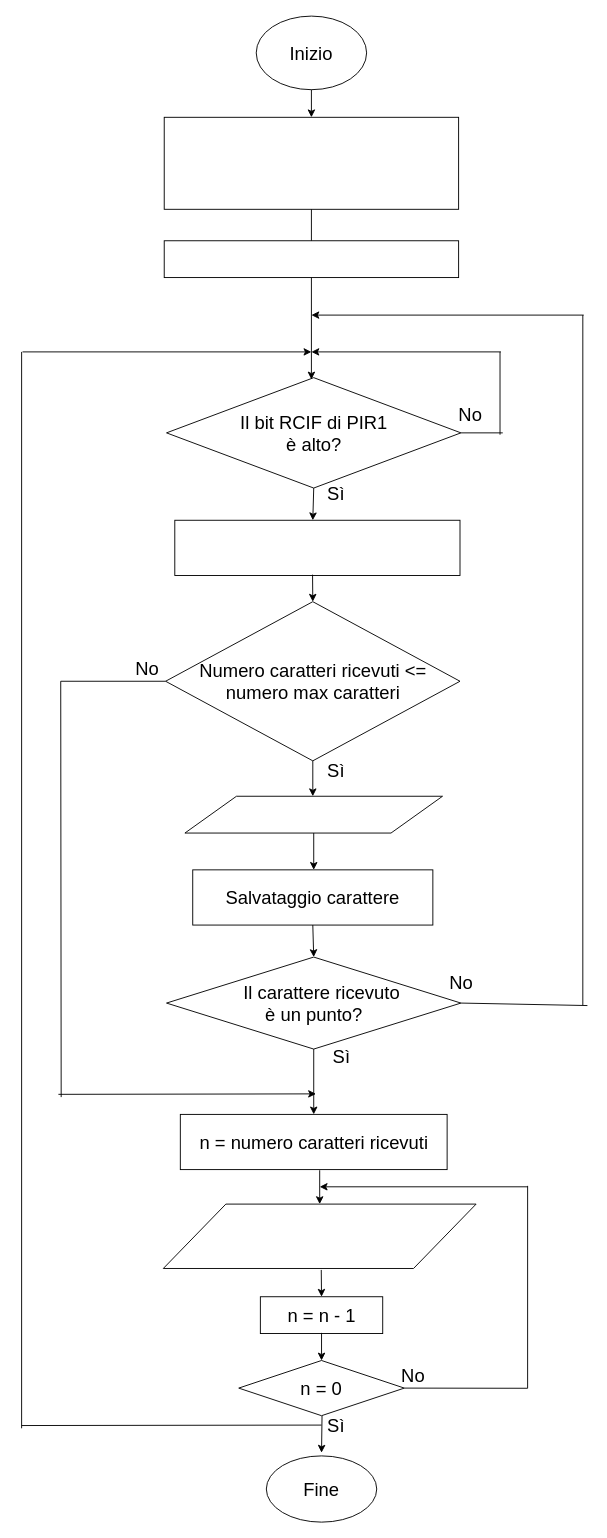
The diagram is 607 pixels wide and 1538 high, and some of its shapes have lost their labels. The centre of each missing label's shape, as x and y in pixels:
"Inizializzazioni hardware (abilitazione e configurazione porta seriale)" goes at (311,162).
"Lettura carattere" goes at (313,814).
"Numero caratteri ricevuti = 0" goes at (311,259).
"Numero caratteri ricevuti = numero caratteri ricevuti + 1" goes at (317,547).
"Trasmissione carattere n - esimo" goes at (319,1235).
